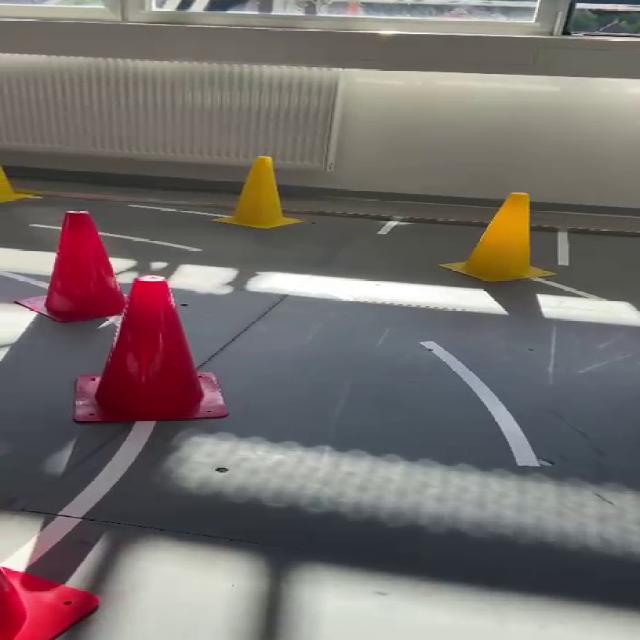Cone-red: (73, 275, 226, 422), (19, 211, 124, 322), (0, 567, 98, 639)
Cones-yellow: (440, 192, 553, 282), (214, 156, 302, 228), (0, 167, 36, 203)
